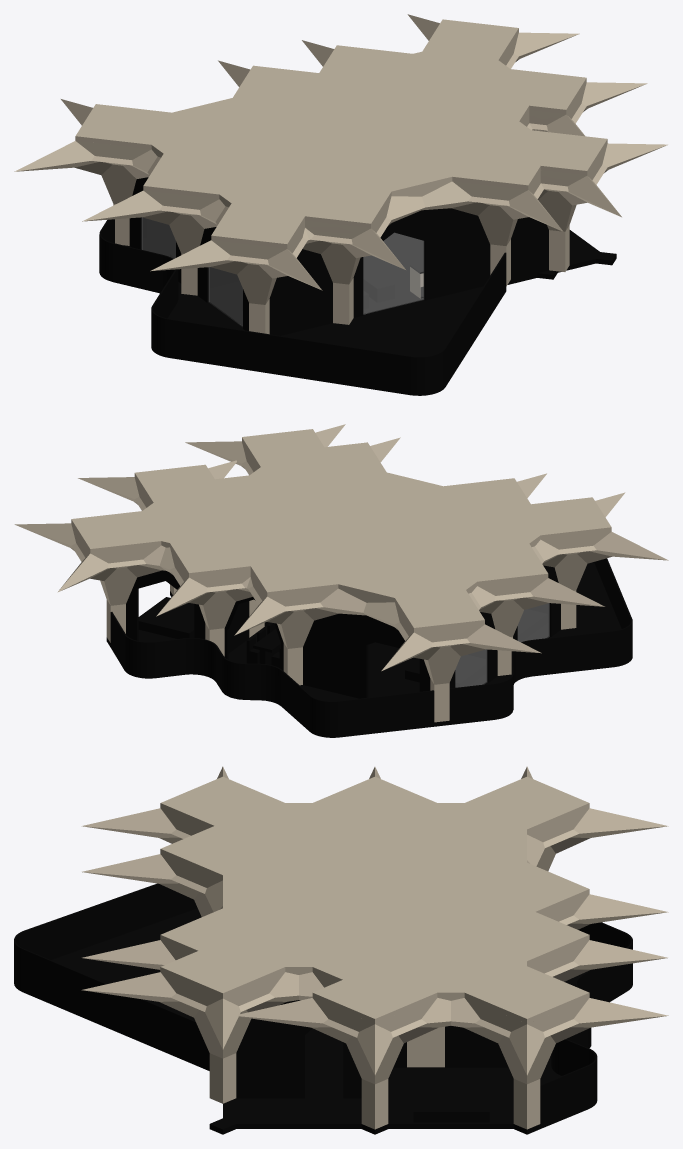
3 views of the same model, one above another, from view 1: azimuth 30°, elevation 25°; view 2: azimuth 150°, elevation 25°; view 3: azimuth 270°, elevation 25° (orthographic). The views are drawn at different scales.
Parts seen in each view (by area): view 1: santech, object 1, object 12, object 60, object 2, object 59, object 62, object 85, object 55, object 16, object 56, object 63 (+1 smaller); view 2: santech, object 1, object 13, object 12, object 2, object 53, object 49, object 8, object 16, object 55, object 30, object 4 (+4 smaller); view 3: santech, object 1, object 2, object 84, object 12, object 53, object 30, object 31.
Part boxes in pixels (x1,y1,x2,y2): santech: (14,14,667,334); object 1: (99,219,506,391); object 12: (99,219,506,395); object 60: (353,208,490,317); object 2: (143,230,616,334); object 59: (269,249,332,335); object 62: (363,233,423,314); object 85: (511,217,548,279); object 55: (209,267,242,326); object 16: (142,217,175,258); object 56: (197,227,248,330); object 63: (363,270,394,302); santech: (14,424,668,722); object 1: (110,558,632,733); object 13: (303,613,430,698); object 12: (110,562,632,737); object 2: (106,591,550,726); object 53: (138,597,194,638); object 49: (126,570,205,640); object 8: (405,654,485,687); object 16: (455,649,486,687); object 55: (518,603,549,641); object 30: (228,601,270,652); object 4: (517,609,547,641); santech: (81,766,668,1129); object 1: (14,883,632,1123); object 2: (209,1028,540,1134); object 84: (236,1000,361,1098); object 12: (14,908,632,1128); object 53: (413,1080,489,1122); object 30: (393,1026,508,1067); object 31: (407,1026,444,1067).
Size of the model in its own units: 19.26 by 3.96 by 17.23.
